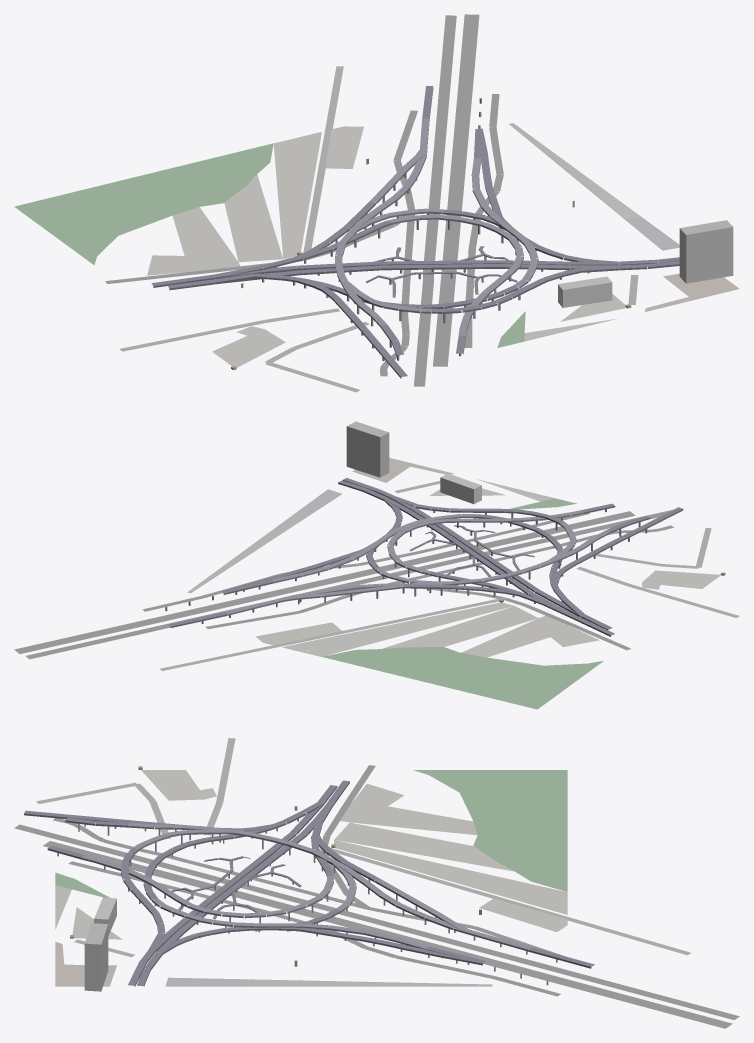
3 renders of one model, top to bottom at view 1: azimuth 30°, elevation 25°; view 2: azimuth 150°, elevation 25°; view 3: azimuth 270°, elevation 25°, orthographic. The views are drawn at different scales.
Size of the model in its own units: 668 by 52.48 by 709.
